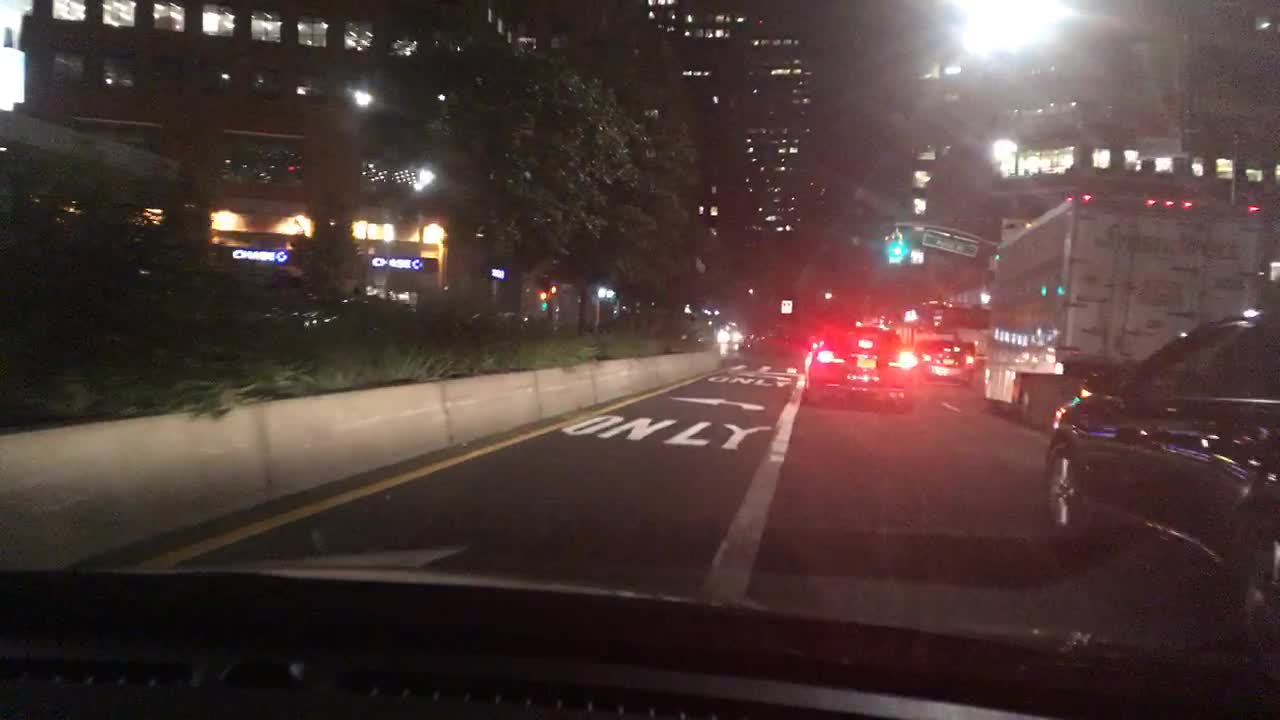car: (1043, 300, 1278, 665), (801, 323, 913, 408), (910, 339, 974, 386), (739, 332, 790, 363), (716, 320, 744, 347)
traffic light: (887, 232, 904, 265)
traffic sign: (921, 228, 980, 255), (779, 299, 791, 314)
truck: (983, 190, 1261, 425), (901, 298, 991, 381)
